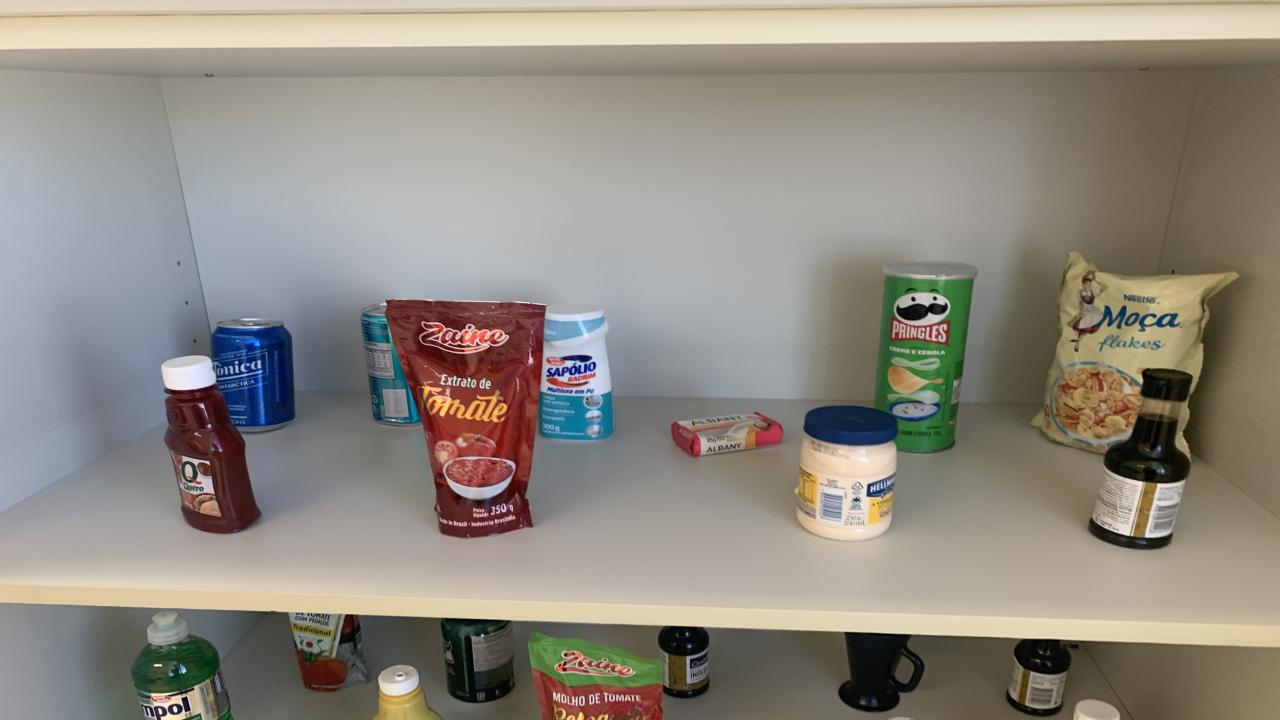Cleaner-Cleanup_Items: (538, 304, 615, 441)
Detergent-Cleanup_Items: (132, 611, 232, 720)
English_Sauce-Pantry_Items: (1090, 368, 1192, 549), (1008, 639, 1072, 716), (658, 626, 710, 698)
Flakes-Snacks: (1032, 251, 1238, 452)
Guarana_Can-Drinks: (440, 619, 515, 703)
Ketchup-Pantry_Items: (162, 354, 260, 532)
Mayonnaise-Pantry_Items: (798, 405, 898, 540)
Mustard-Pantry_Items: (372, 666, 442, 720), (1072, 699, 1120, 720)
Pringles-Snacks: (875, 262, 978, 452)
Soap-Cleanup_Items: (670, 412, 782, 456)
Tea-Drinks: (360, 304, 420, 426)
Tomato_Sauce-Pantry_Items: (385, 300, 545, 536), (528, 632, 662, 720), (290, 613, 370, 692)
Tonic-Drinks: (210, 319, 295, 431)
